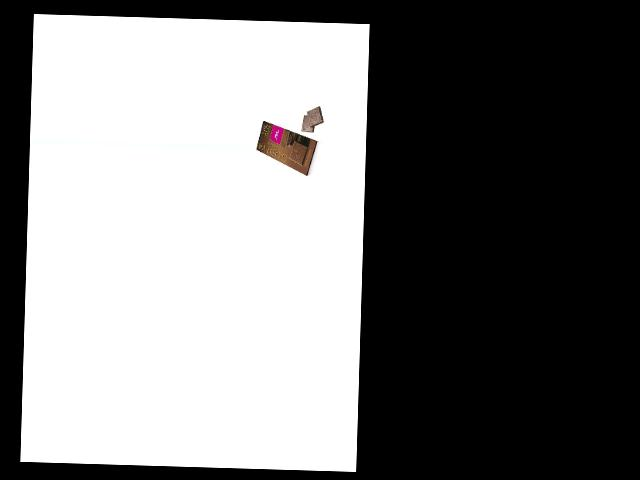chocolate: (254, 119, 319, 176)
